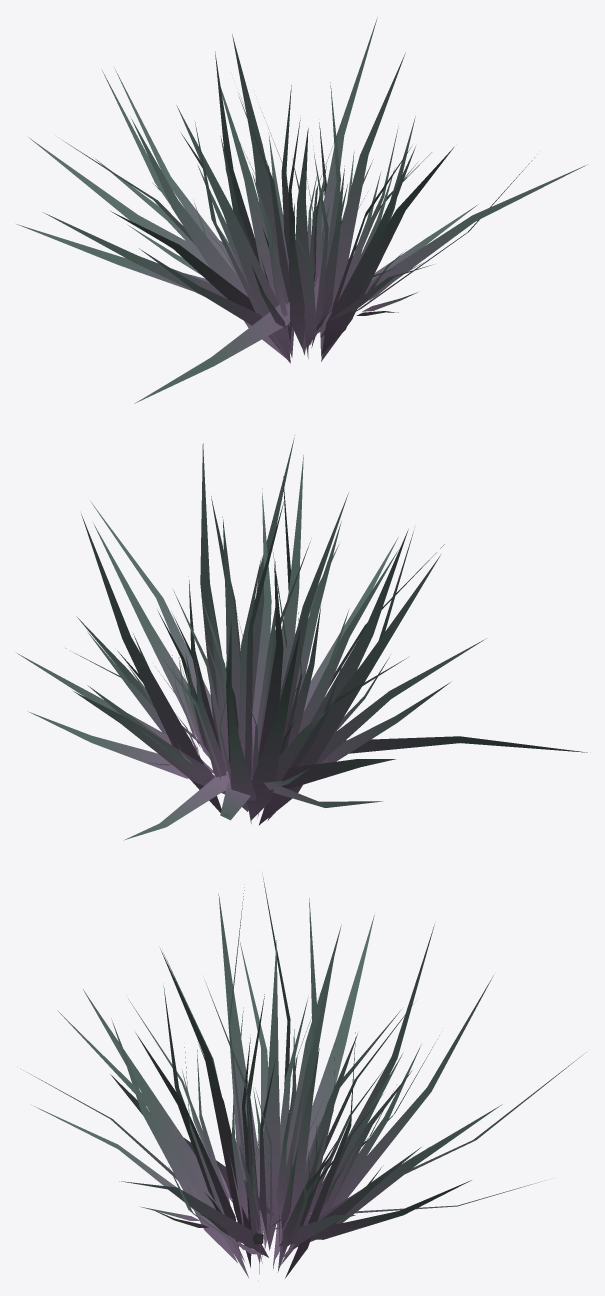
The model's file is plants-grasses-reeds-grass-tuft_v3.glb.
The picture shows the model from 3 angles, top to bottom: view 1: azimuth 30°, elevation 25°; view 2: azimuth 150°, elevation 25°; view 3: azimuth 270°, elevation 25°; orthographic projection. The views are drawn at different scales.
Visible parts, largest first — view 1: Grass Tuft_v3; view 2: Grass Tuft_v3; view 3: Grass Tuft_v3.
Part boxes in pixels (x1,y1,x2,y2): Grass Tuft_v3: [16, 18, 587, 403]; Grass Tuft_v3: [17, 435, 587, 840]; Grass Tuft_v3: [20, 875, 586, 1278].
Size of the model in its own units: 0.4 by 0.271 by 0.3984.
